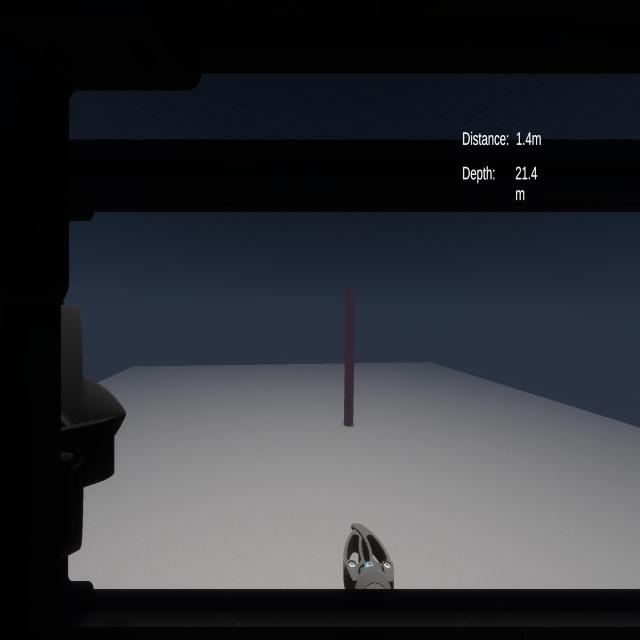Depth: (461, 159, 546, 205)
Distance: (460, 124, 545, 157)
Pole: (339, 271, 358, 443)
